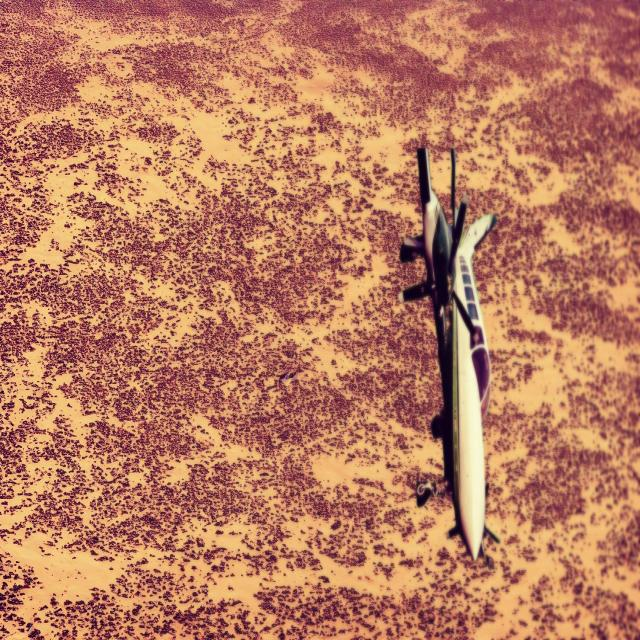airplane: (397, 144, 500, 562)
